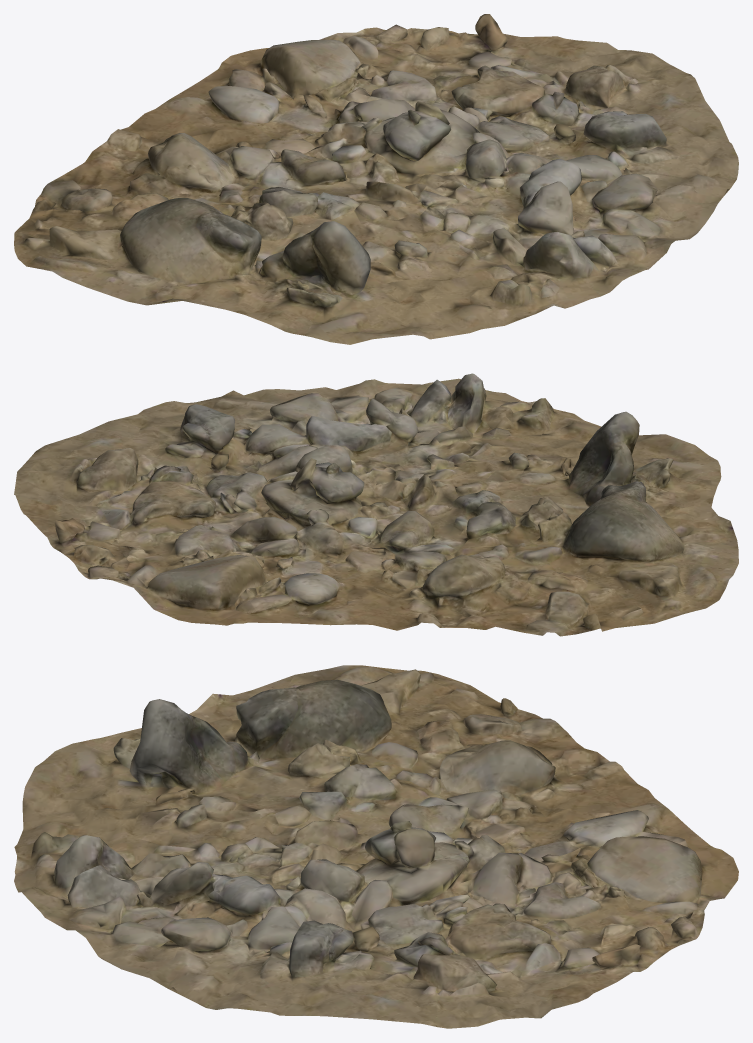
File: sand_rocks_small_01.glb
3 views of the same model, one above another, from view 1: azimuth 30°, elevation 25°; view 2: azimuth 150°, elevation 25°; view 3: azimuth 270°, elevation 25° (orthographic). The views are drawn at different scales.
Visible parts, largest first — view 1: sand_rocks_small_01_LOD0; view 2: sand_rocks_small_01_LOD0; view 3: sand_rocks_small_01_LOD0.
Boxes of the visible parts, x1,y1,x2,y2 form: sand_rocks_small_01_LOD0: (14, 14, 738, 344); sand_rocks_small_01_LOD0: (14, 373, 738, 636); sand_rocks_small_01_LOD0: (14, 665, 738, 1028).
Size of the model in its own units: 4.63 by 0.5333 by 3.88.
1 material, 1 textured.
